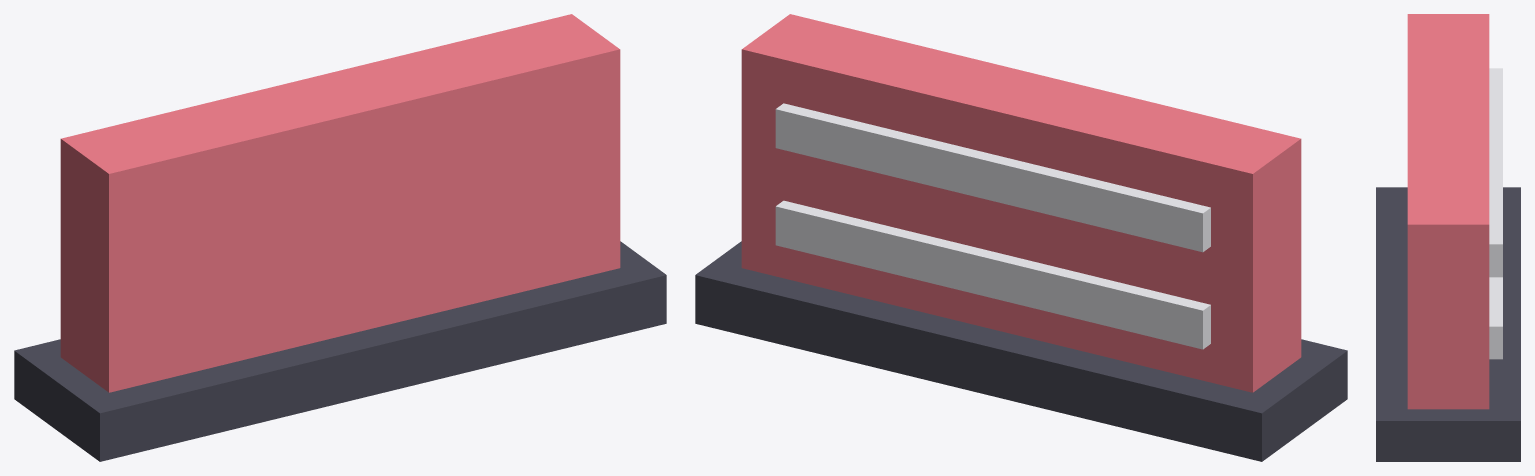
File: barrier_road_block.glb
The picture shows the model from 3 angles, left to right: view 1: azimuth 30°, elevation 25°; view 2: azimuth 150°, elevation 25°; view 3: azimuth 270°, elevation 25°; orthographic projection. The views are drawn at different scales.
Visible parts, largest first — view 1: barrier, base; view 2: barrier, base, stripe1, stripe2; view 3: barrier, base, stripe1, stripe2.
Boxes of the visible parts, x1,y1,x2,y2 form: barrier: (60, 14, 620, 392); base: (14, 241, 666, 461); barrier: (741, 14, 1301, 392); base: (695, 241, 1347, 461); stripe1: (775, 103, 1210, 252); stripe2: (775, 200, 1210, 349); barrier: (1407, 14, 1489, 409); base: (1376, 187, 1520, 461); stripe1: (1489, 68, 1502, 277); stripe2: (1489, 277, 1502, 359).
Size of the model in its own units: 1.22 by 0.55 by 0.32.
